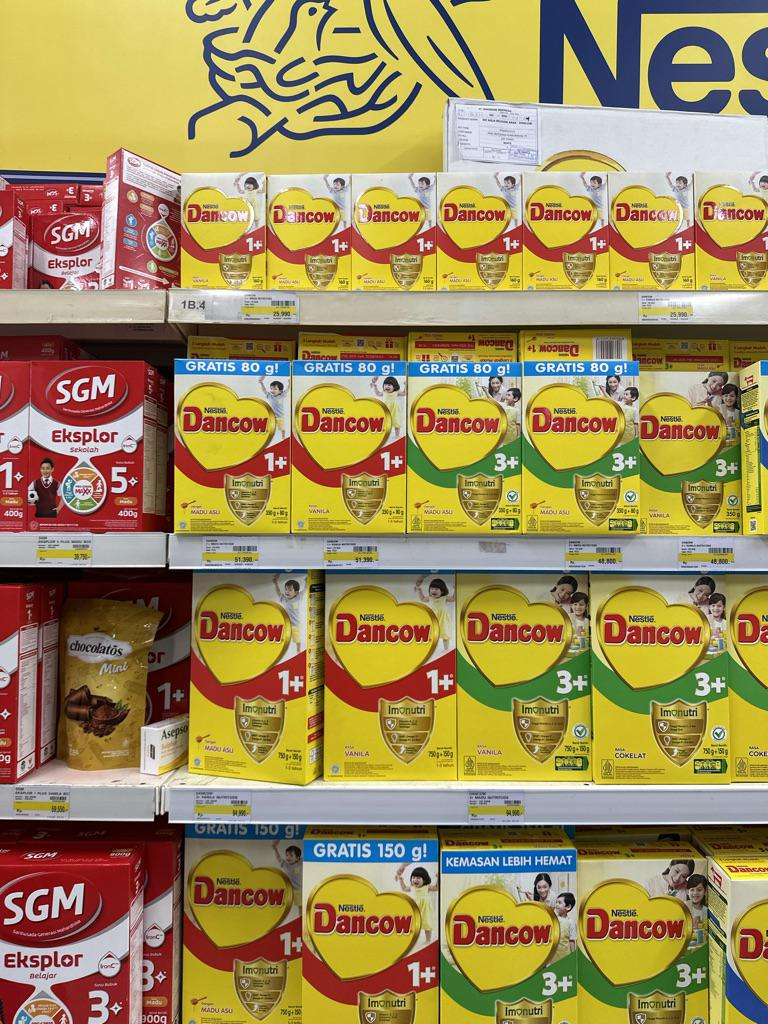DANCOW 1+ Madu Advn ExcNutr 40x200g ID_REDESIGN3: (522, 171, 610, 290), (610, 171, 696, 291), (437, 171, 523, 290), (266, 173, 351, 292), (353, 171, 436, 292)
DANCOW 1+ Van Advn ExcNutr 40x200g N1 ID_REDESIGN3: (177, 170, 267, 290)
DANCOW 3+ Van Advn ExcNutr 24x400g ID_REDESIGN3: (636, 370, 745, 534)
